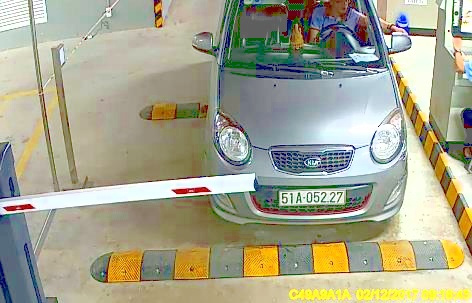plate: (276, 186, 347, 211)
